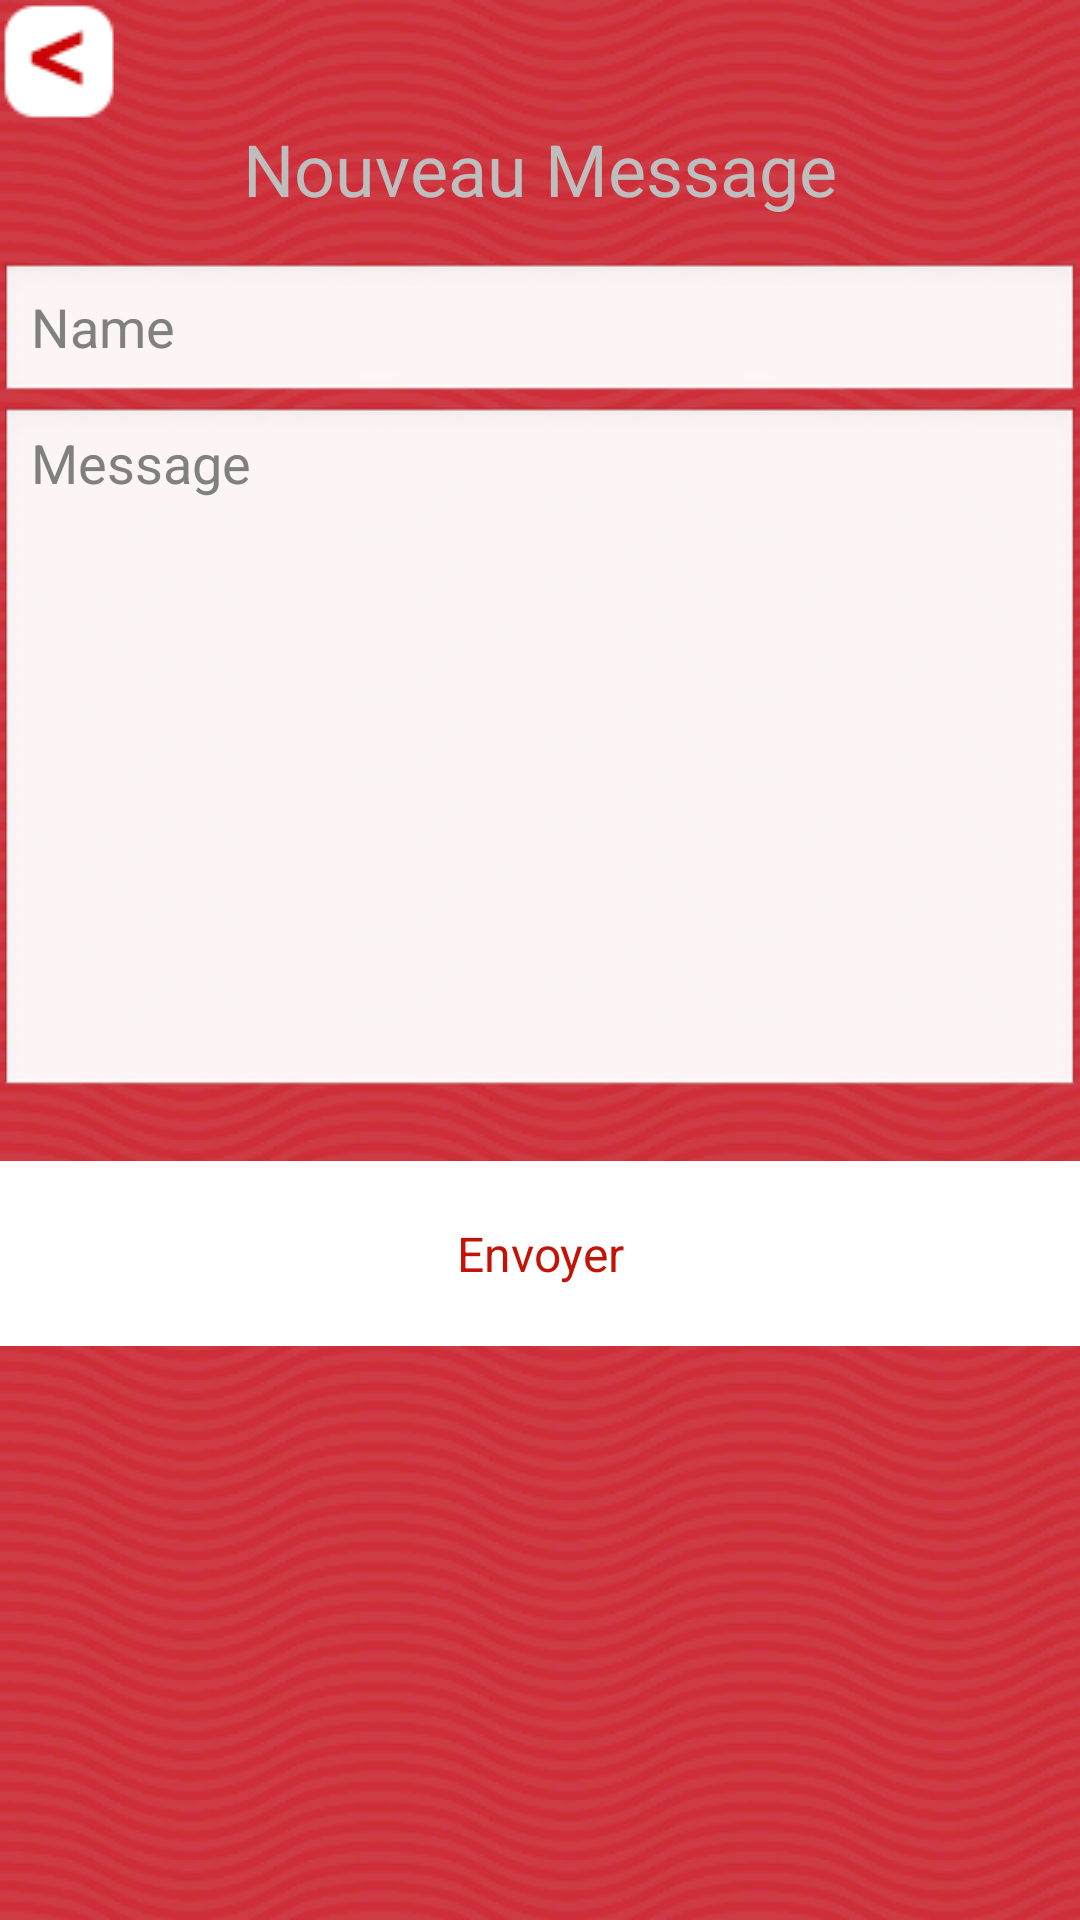

Named icons in this screenshot (1080*1920) and their centers, (x,y):
back: (59,61)
